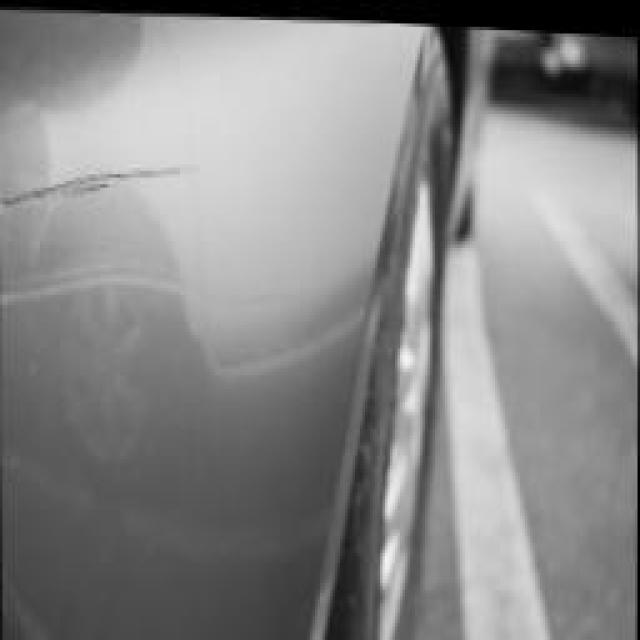Bumper: (0, 124, 232, 366)
